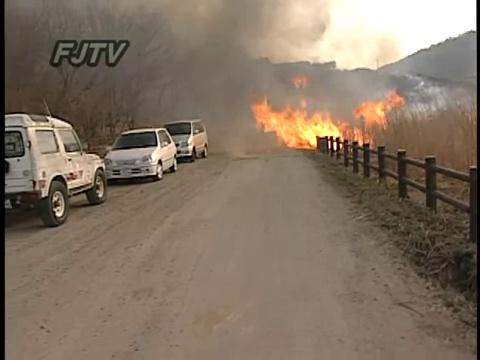fire: (277, 117, 326, 147)
